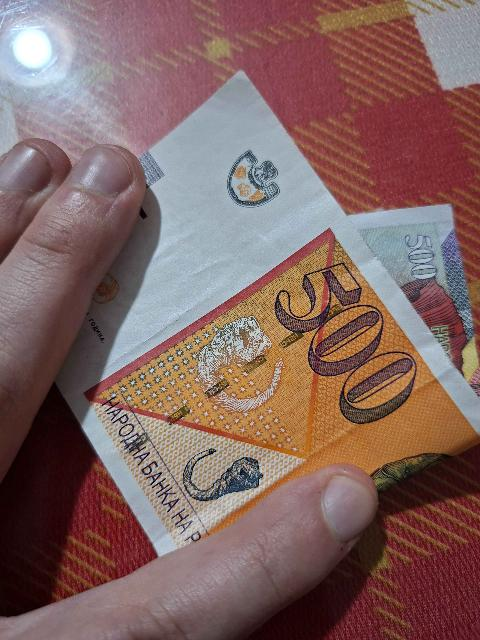500_note: (55, 73, 479, 550)
